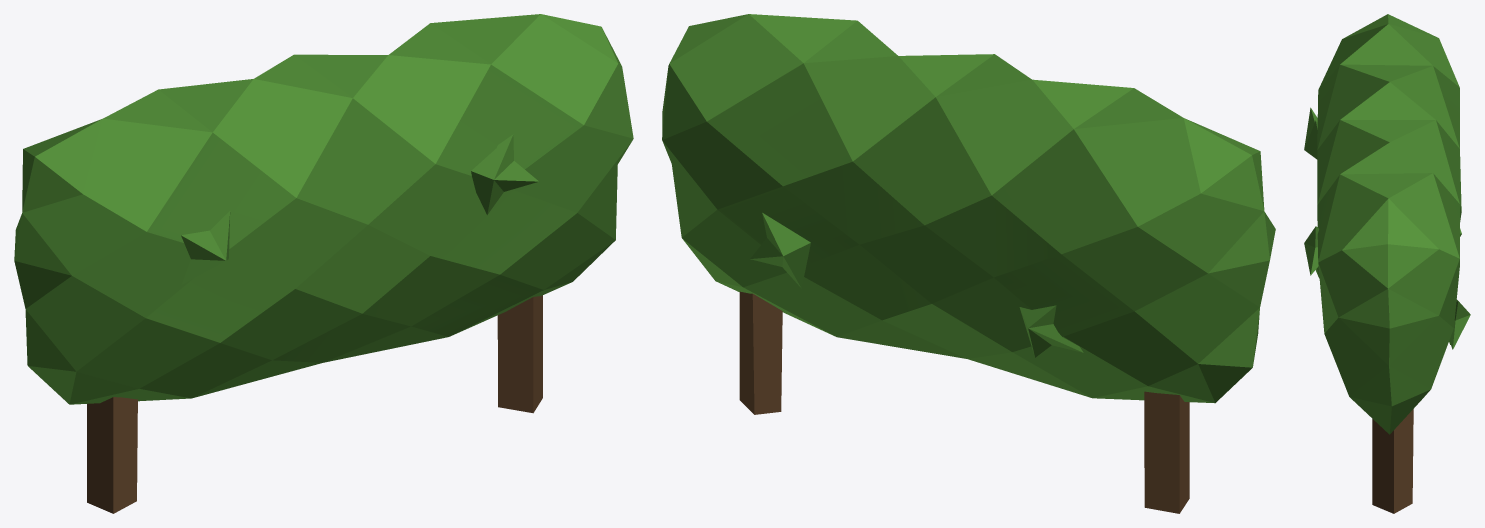
Rendered from props_fence-vineyard.fbx.
The picture shows the model from 3 angles, left to right: view 1: azimuth 30°, elevation 25°; view 2: azimuth 150°, elevation 25°; view 3: azimuth 270°, elevation 25°; orthographic projection. The views are drawn at different scales.
Parts seen in each view (by area): view 1: props_fence_vineyard; view 2: props_fence_vineyard; view 3: props_fence_vineyard.
Part boxes in pixels (left/top/right/bottom): props_fence_vineyard: left=14, top=14, right=633, bottom=513; props_fence_vineyard: left=662, top=14, right=1275, bottom=513; props_fence_vineyard: left=1304, top=14, right=1470, bottom=513.
Size of the model in its own units: 200 by 122 by 58.41.
